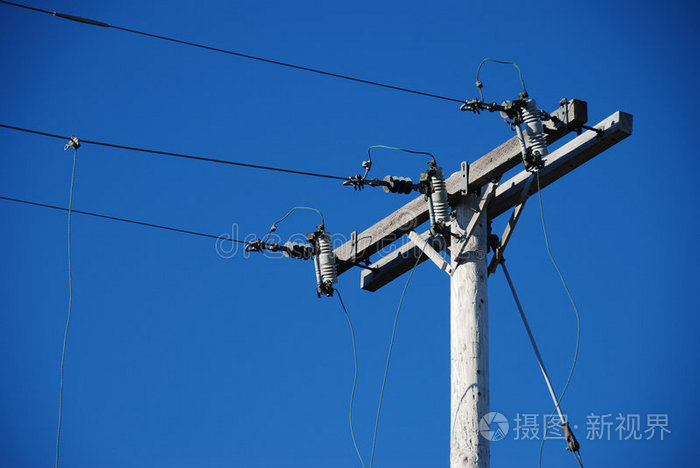insulator: (380, 174, 409, 196), (281, 241, 311, 259)
